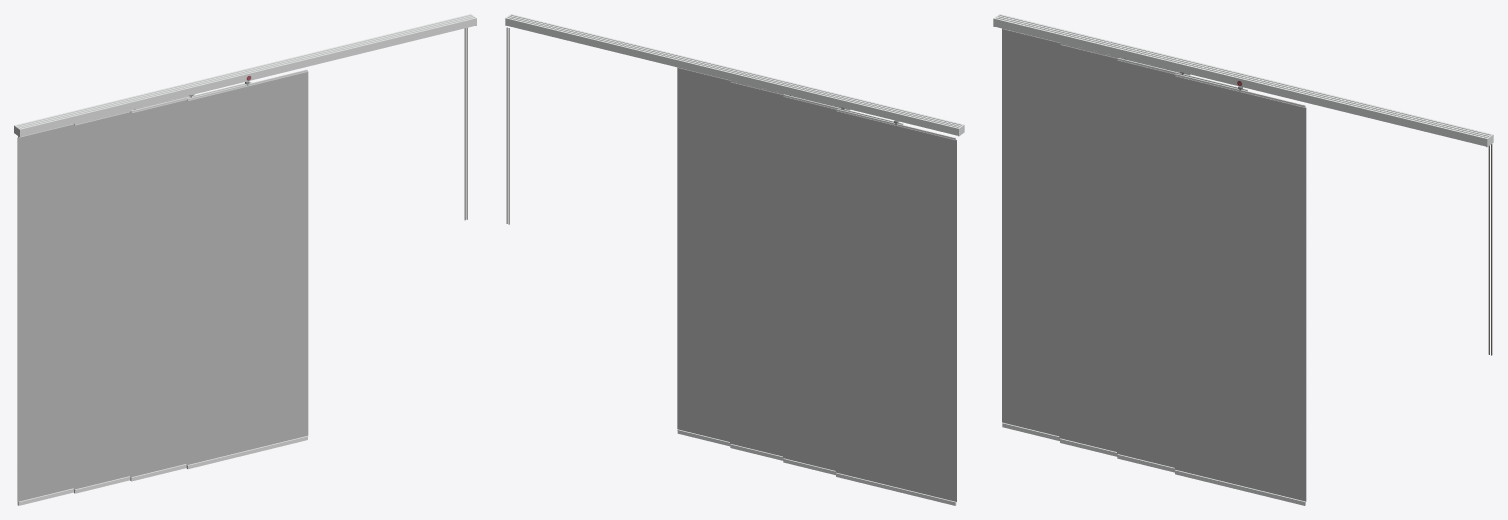
The model's file is before-panel-white-partial.glb.
3 views of the same model, side by side, from view 1: azimuth 30°, elevation 25°; view 2: azimuth 150°, elevation 25°; view 3: azimuth 330°, elevation 25° (orthographic). The views are drawn at different scales.
Parts seen in each view (by area): view 1: PANEL_TELO_4, PANEL_TELO_1, PANEL_TELO_2, PANEL_TELO_3, PANEL_RAIL_PROFILE_WAY_4, PANEL_RAIL_PROFILE_WAY_2, PANEL_RAIL_PROFILE_WAY_1, PANEL_RAIL_PROFILE_WAY_3, PANEL_BOTTOM_WEIGHT_4; view 2: PANEL_TELO_1, PANEL_TELO_2, PANEL_TELO_3, PANEL_TELO_4, PANEL_RAIL_PROFILE_WAY_1, PANEL_RAIL_PROFILE_WAY_3, PANEL_RAIL_PROFILE_WAY_4, PANEL_RAIL_PROFILE_WAY_2, PANEL_BOTTOM_WEIGHT_1; view 3: PANEL_TELO_4, PANEL_TELO_3, PANEL_TELO_1, PANEL_TELO_2, PANEL_RAIL_PROFILE_WAY_4, PANEL_RAIL_PROFILE_WAY_2, PANEL_RAIL_PROFILE_WAY_1, PANEL_RAIL_PROFILE_WAY_3, PANEL_BOTTOM_WEIGHT_4.
Part boxes in pixels (x1,y1,x2,y2): PANEL_TELO_4: (186, 71, 308, 465); PANEL_TELO_1: (17, 124, 74, 501); PANEL_TELO_2: (73, 112, 130, 489); PANEL_TELO_3: (130, 100, 186, 477); PANEL_RAIL_PROFILE_WAY_4: (20, 18, 475, 136); PANEL_RAIL_PROFILE_WAY_2: (17, 15, 472, 127); PANEL_RAIL_PROFILE_WAY_1: (15, 14, 470, 126); PANEL_RAIL_PROFILE_WAY_3: (19, 16, 473, 128); PANEL_BOTTOM_WEIGHT_4: (186, 436, 308, 469); PANEL_TELO_1: (835, 111, 956, 501); PANEL_TELO_2: (783, 96, 836, 470); PANEL_TELO_3: (730, 82, 783, 456); PANEL_TELO_4: (677, 67, 730, 441); PANEL_RAIL_PROFILE_WAY_1: (506, 17, 958, 135); PANEL_RAIL_PROFILE_WAY_3: (509, 15, 961, 126); PANEL_RAIL_PROFILE_WAY_4: (511, 14, 963, 125); PANEL_RAIL_PROFILE_WAY_2: (508, 16, 959, 127); PANEL_BOTTOM_WEIGHT_1: (836, 472, 956, 505); PANEL_TELO_4: (1174, 76, 1306, 501); PANEL_TELO_3: (1117, 60, 1175, 467); PANEL_TELO_1: (1002, 28, 1060, 436); PANEL_TELO_2: (1059, 44, 1117, 451); PANEL_RAIL_PROFILE_WAY_4: (994, 18, 1486, 146); PANEL_RAIL_PROFILE_WAY_2: (998, 15, 1490, 136); PANEL_RAIL_PROFILE_WAY_1: (999, 14, 1491, 135); PANEL_RAIL_PROFILE_WAY_3: (996, 17, 1488, 137); PANEL_BOTTOM_WEIGHT_4: (1174, 470, 1305, 505).
Size of the model in its own units: 3.02 by 2.4 by 0.088.
Materials: 5 (2 with a texture image).
